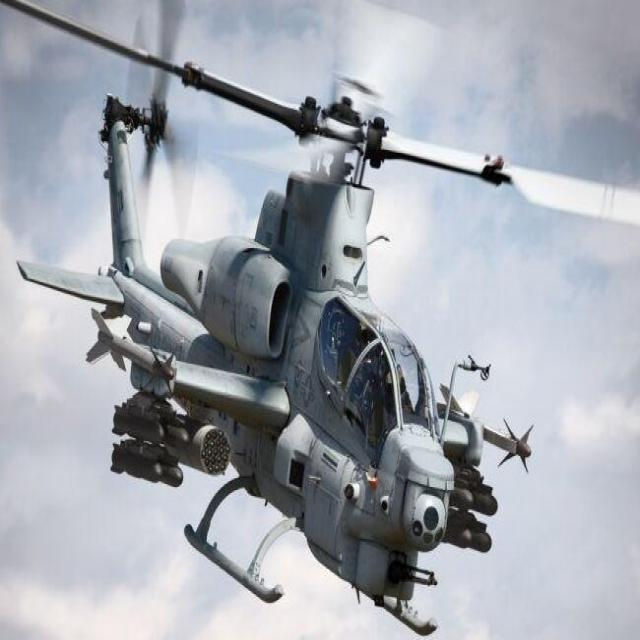MIL_HELO: (6, 0, 640, 633)
